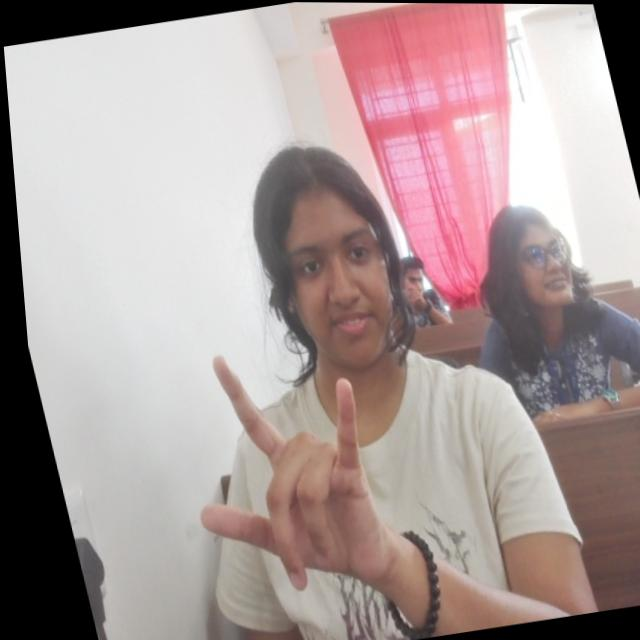iloveyou: (154, 329, 397, 610)
